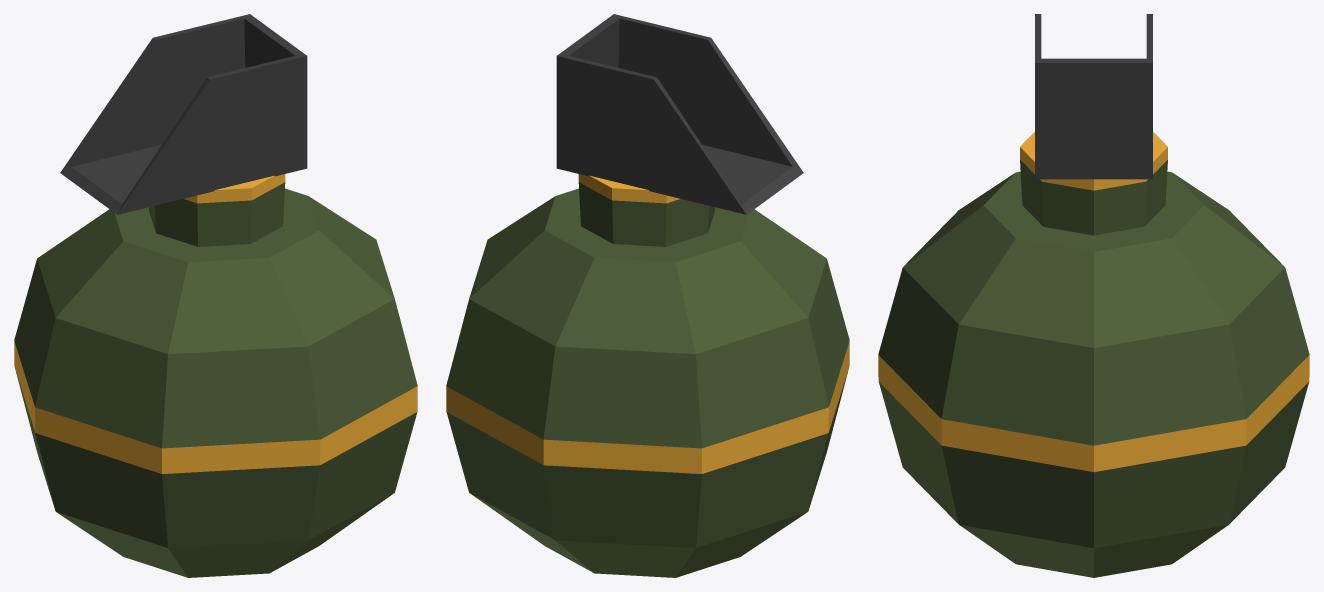
Rendered from Frag_Grenade_Dropped.fbx.
3 views of the same model, side by side, from view 1: azimuth 30°, elevation 25°; view 2: azimuth 150°, elevation 25°; view 3: azimuth 270°, elevation 25° (orthographic). The views are drawn at different scales.
Parts seen in each view (by area): view 1: Frag Grenade; view 2: Frag Grenade; view 3: Frag Grenade.
Part boxes in pixels (x1,y1,x2,y2): Frag Grenade: (14, 14, 417, 577); Frag Grenade: (446, 14, 849, 577); Frag Grenade: (878, 14, 1309, 577).
Bounding box in the file's own units: 481 × 615 × 481.
1 material, 1 textured.
